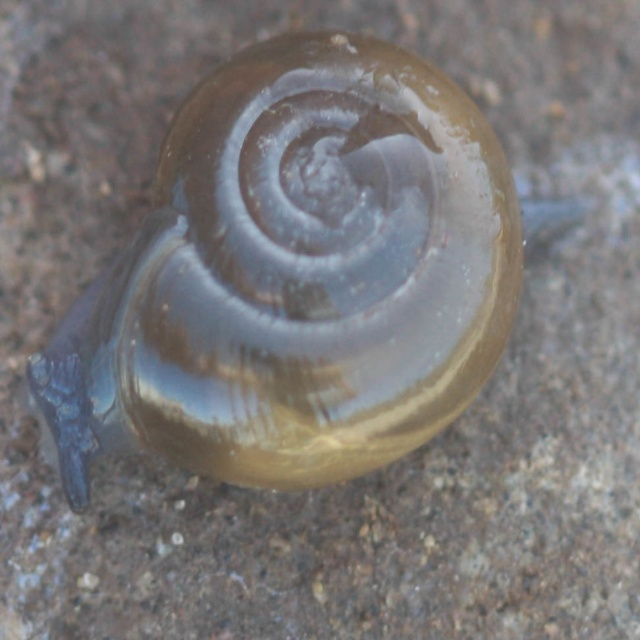Snail: (23, 28, 529, 516)
